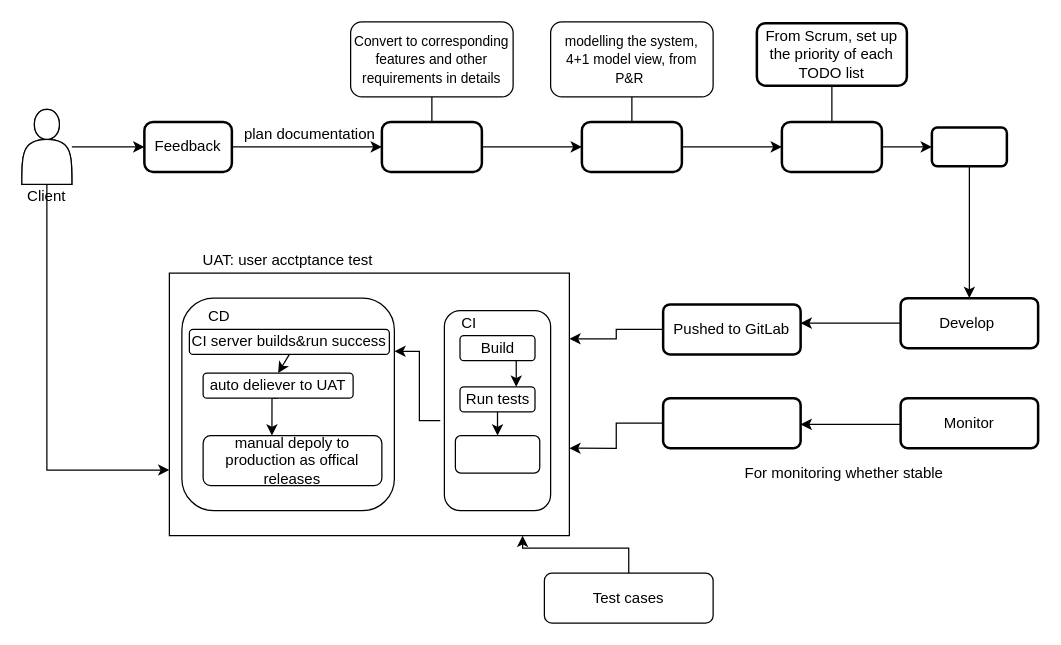
Some shapes in this 1061 by 645 pixel diagram are drawn without their labels. Each missing label, with the centre of its shape:
Architecture Design: [631,146]
code quality: [497,453]
Iterate: [969,146]
Operate Platform: [731,422]
Product BackLog: [831,146]
Project Requirement: [431,146]
